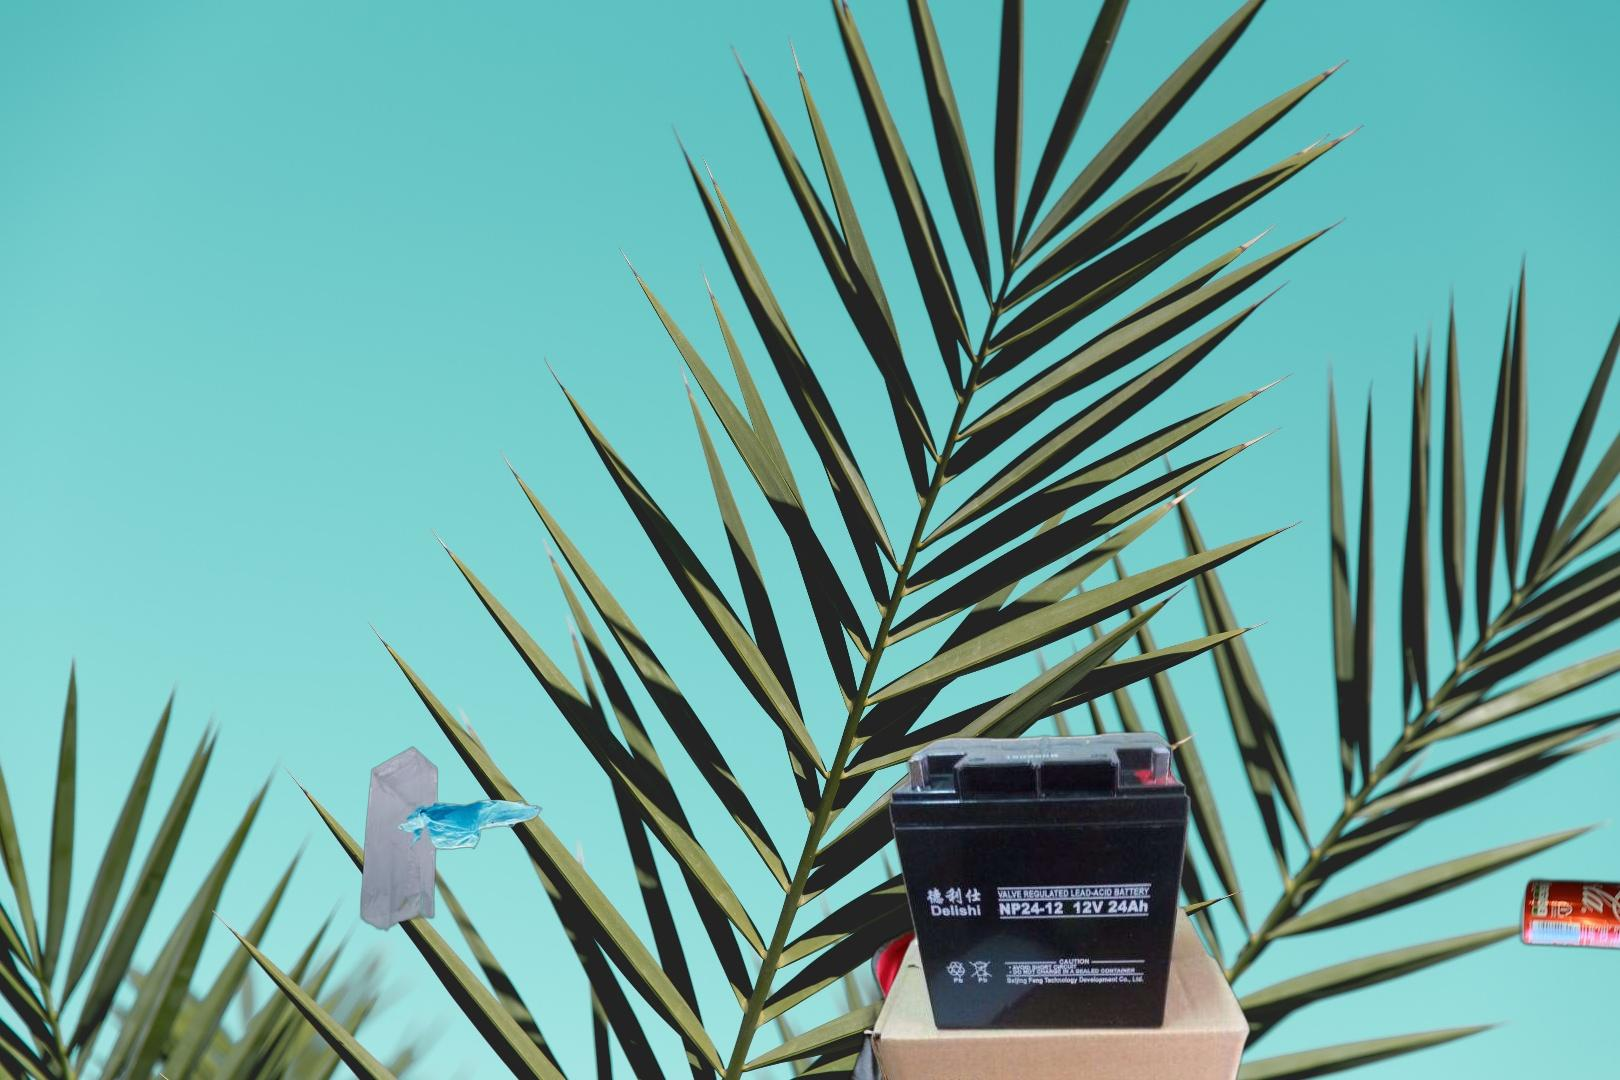battery: (867, 727, 1255, 1080)
clothes: (722, 912, 1122, 1080)
metal-cans: (1515, 873, 1620, 957)
plastic-bag: (357, 744, 544, 935)
